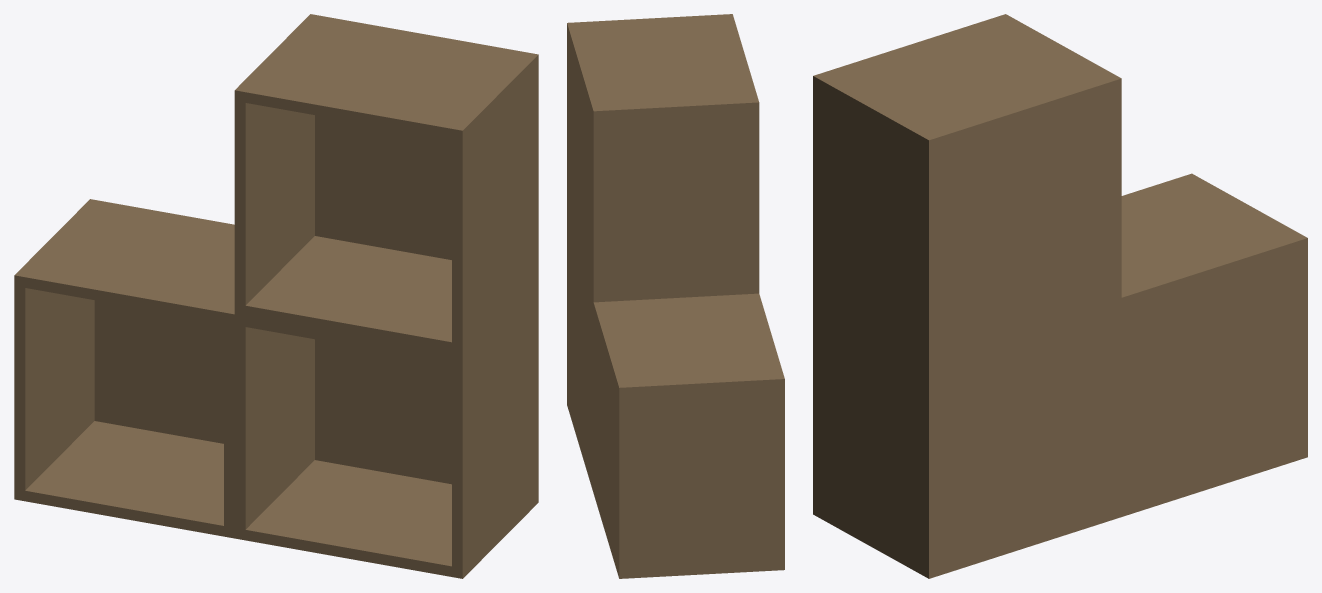
The model's file is StorageCubes.fbx.
The picture shows the model from 3 angles, left to right: view 1: azimuth 30°, elevation 25°; view 2: azimuth 150°, elevation 25°; view 3: azimuth 270°, elevation 25°; orthographic projection. The views are drawn at different scales.
Parts seen in each view (by area): view 1: StorageCubes; view 2: StorageCubes; view 3: StorageCubes.
Part boxes in pixels (x1=…): StorageCubes: x1=14, y1=14, x2=538, y2=578; StorageCubes: x1=567, y1=14, x2=784, y2=578; StorageCubes: x1=813, y1=14, x2=1307, y2=578.
Bounding box in the file's own units: 38.48 × 42.28 × 43.23.
